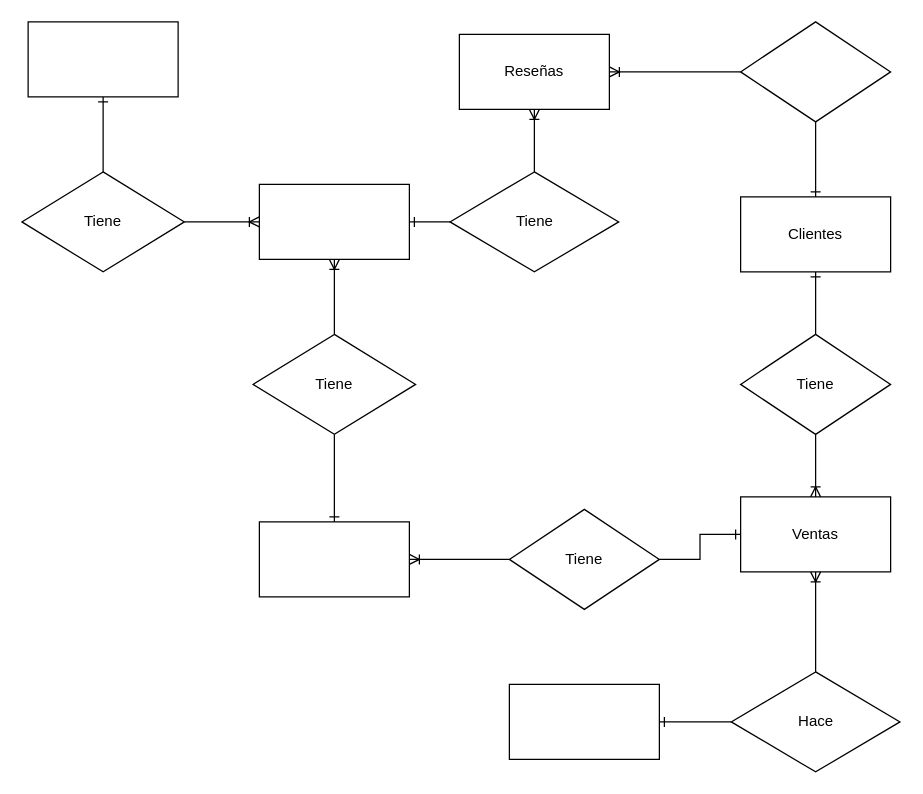
This 923x794 diagram has some shape labels left out. The centre of each missing label's shape, as x and y in pixels:
Categorias: point 102,59
Detalle_venta: point 333,559
Empleados: point 583,721
La hacen: point 815,71
Producto: point 333,221
